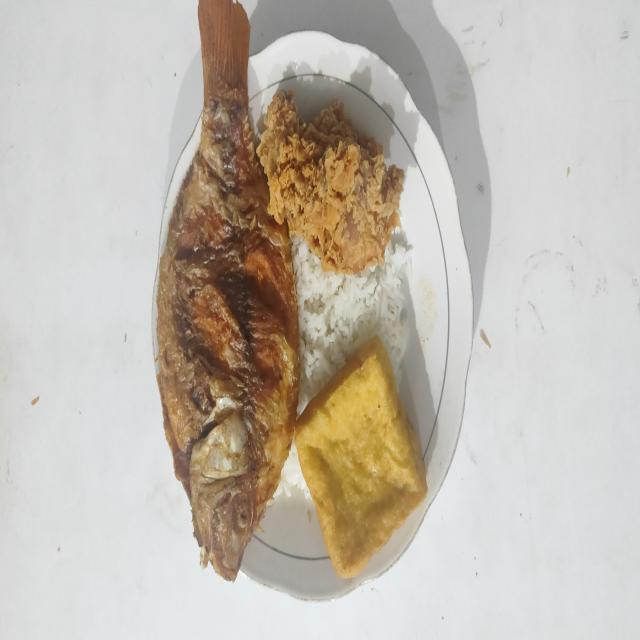ikan_mujair: (156, 0, 300, 580)
nasi_putih: (292, 228, 414, 417), (273, 438, 311, 501)
tahu_goreng: (296, 336, 428, 578)
